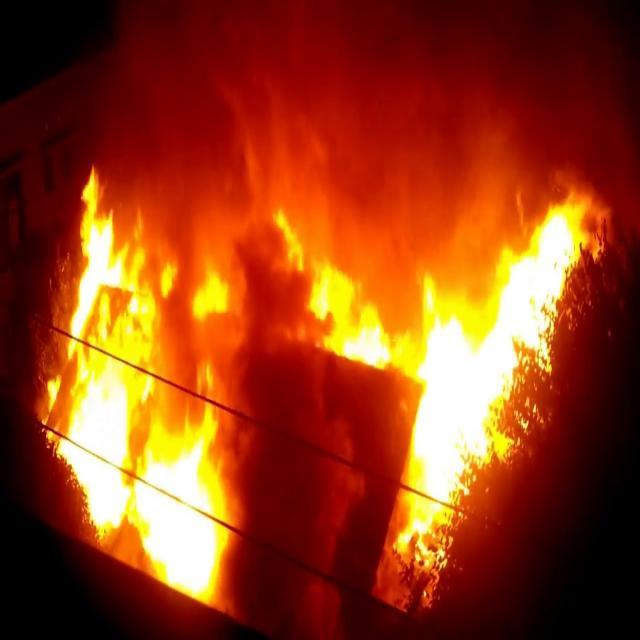Fire: (272, 188, 592, 571), (41, 163, 230, 606)
